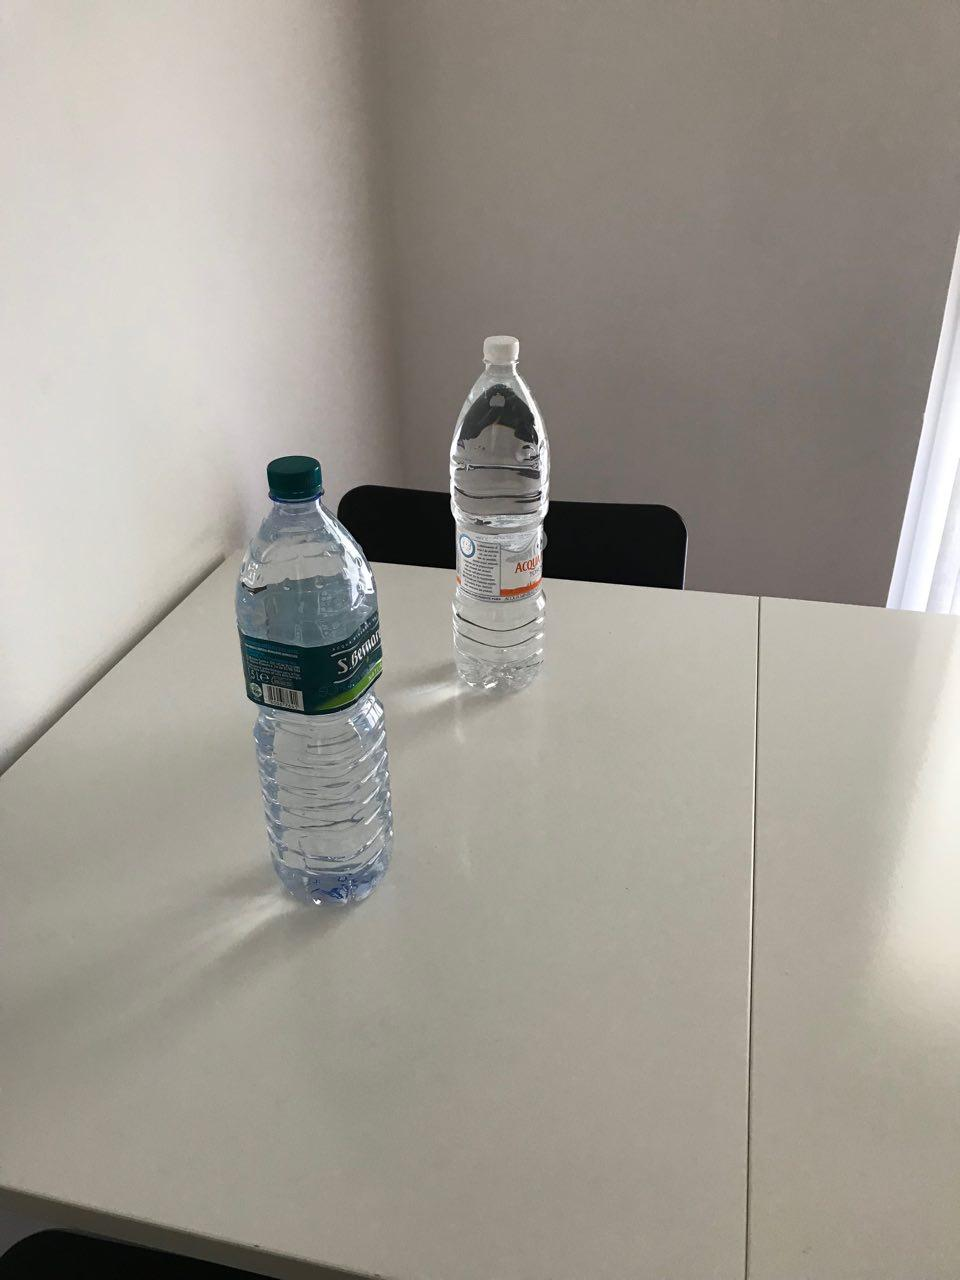san_bernardo: (234, 454, 395, 908)
